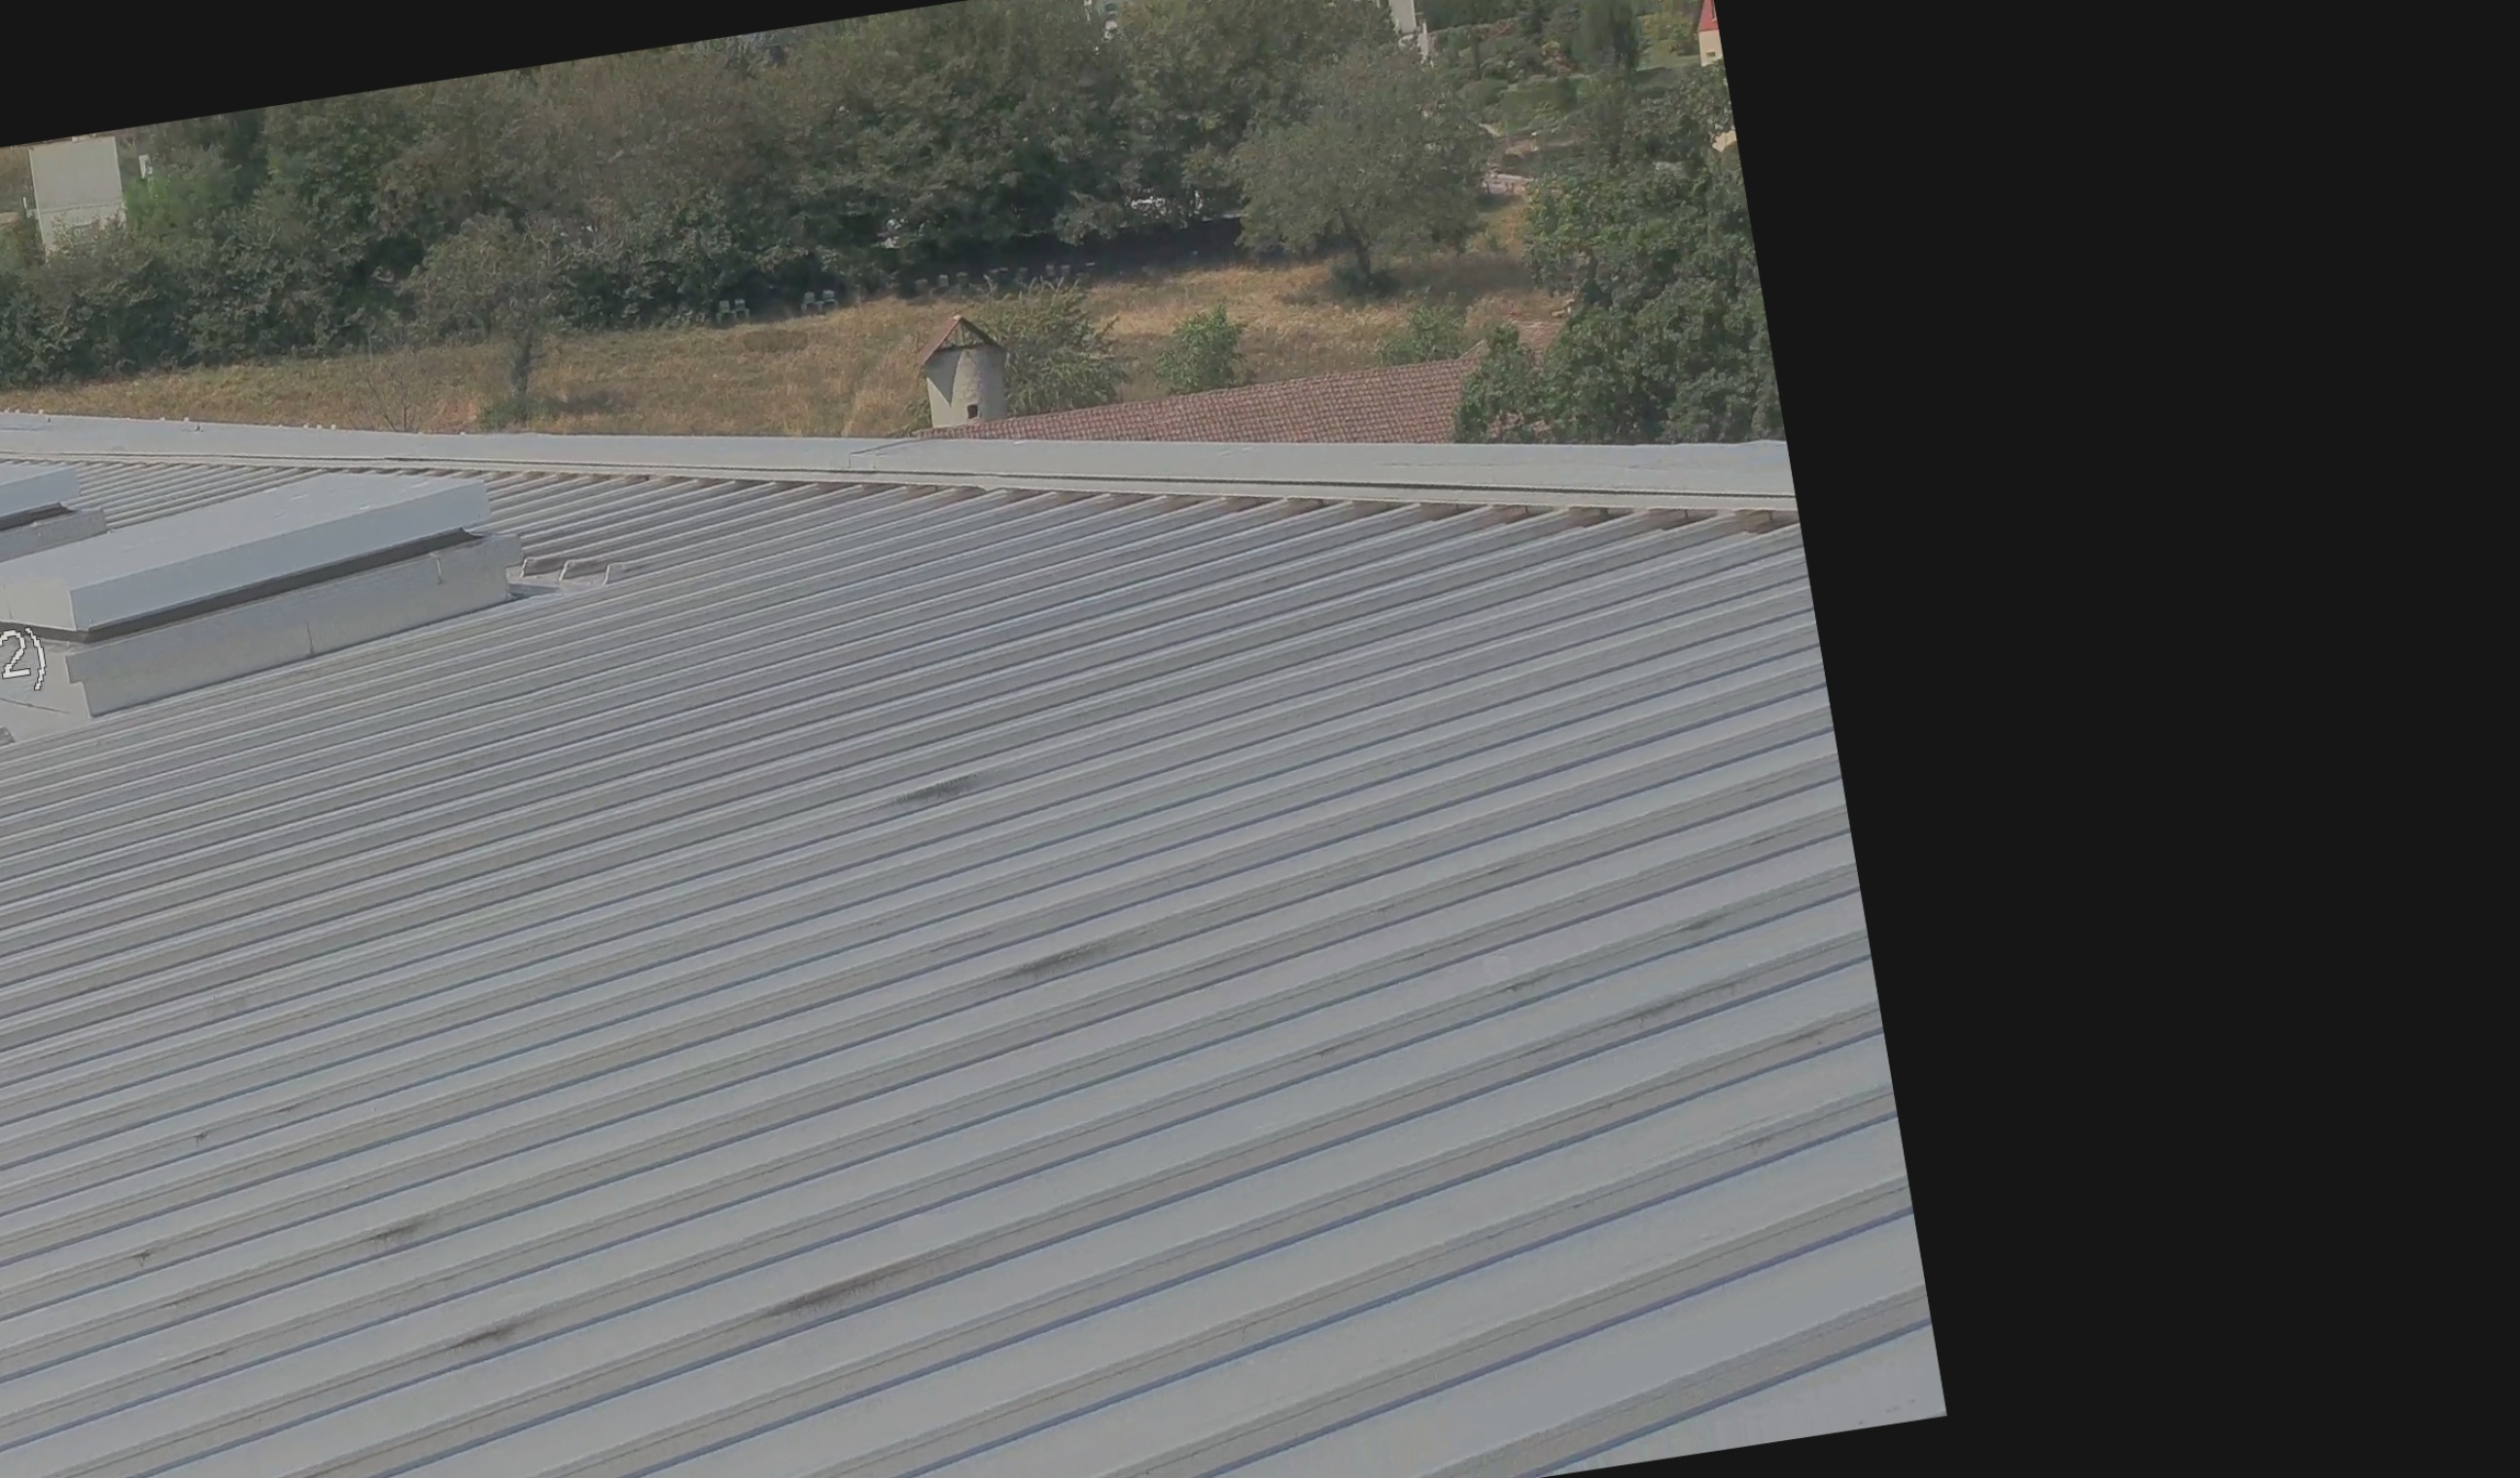Other: (907, 289, 1050, 440)
